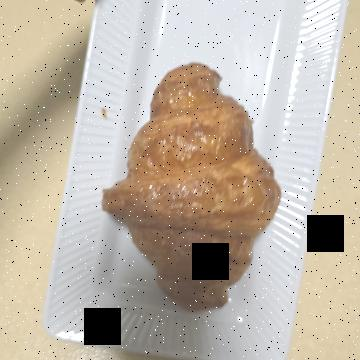croissant: (71, 76, 347, 282)
